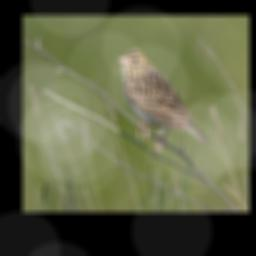Sparrow: (115, 49, 212, 153)
